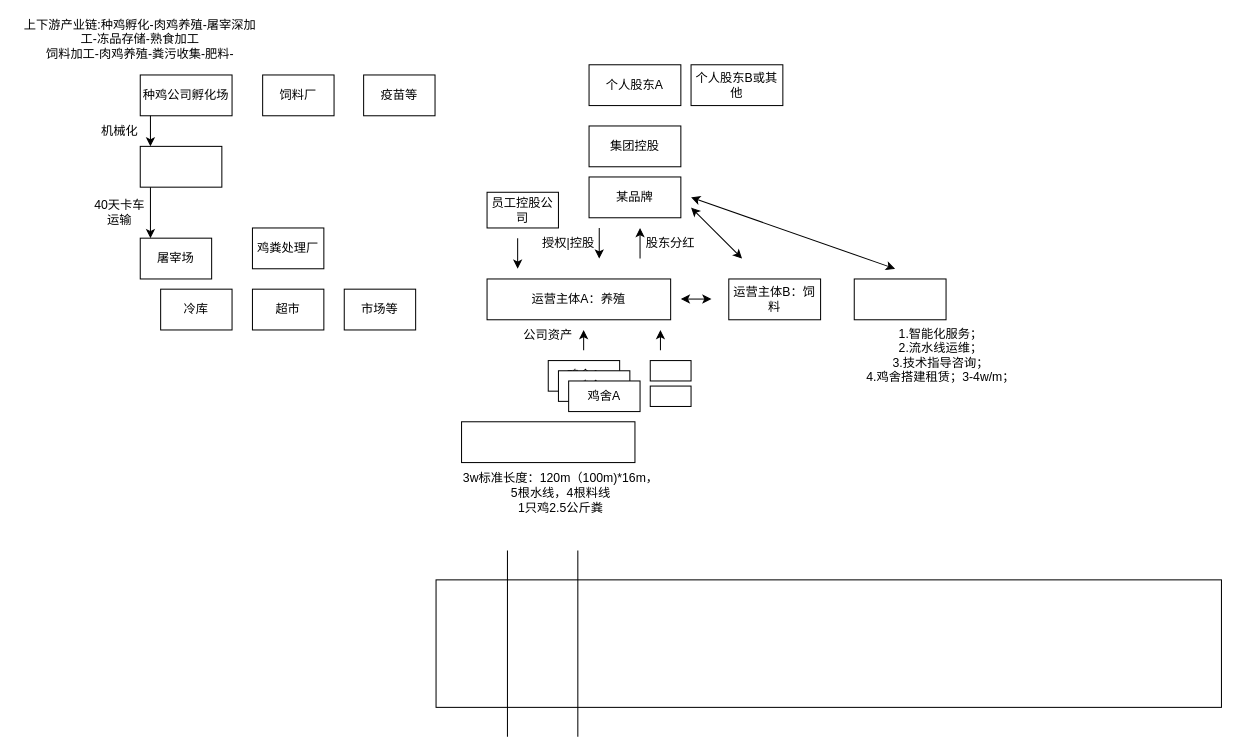
This 1239x756 diagram has some shape labels left out. Each missing label, with the box of its shape:
其他: (649, 385, 691, 406)
员工: (649, 360, 691, 381)
运营主体B：技术服务: (853, 278, 946, 320)
鸡舍设备：风机，温帘，料线，暖风炉，臭氧消毒，湿度等: (461, 421, 635, 463)
鸡舍：3.8w只: (139, 145, 222, 187)
